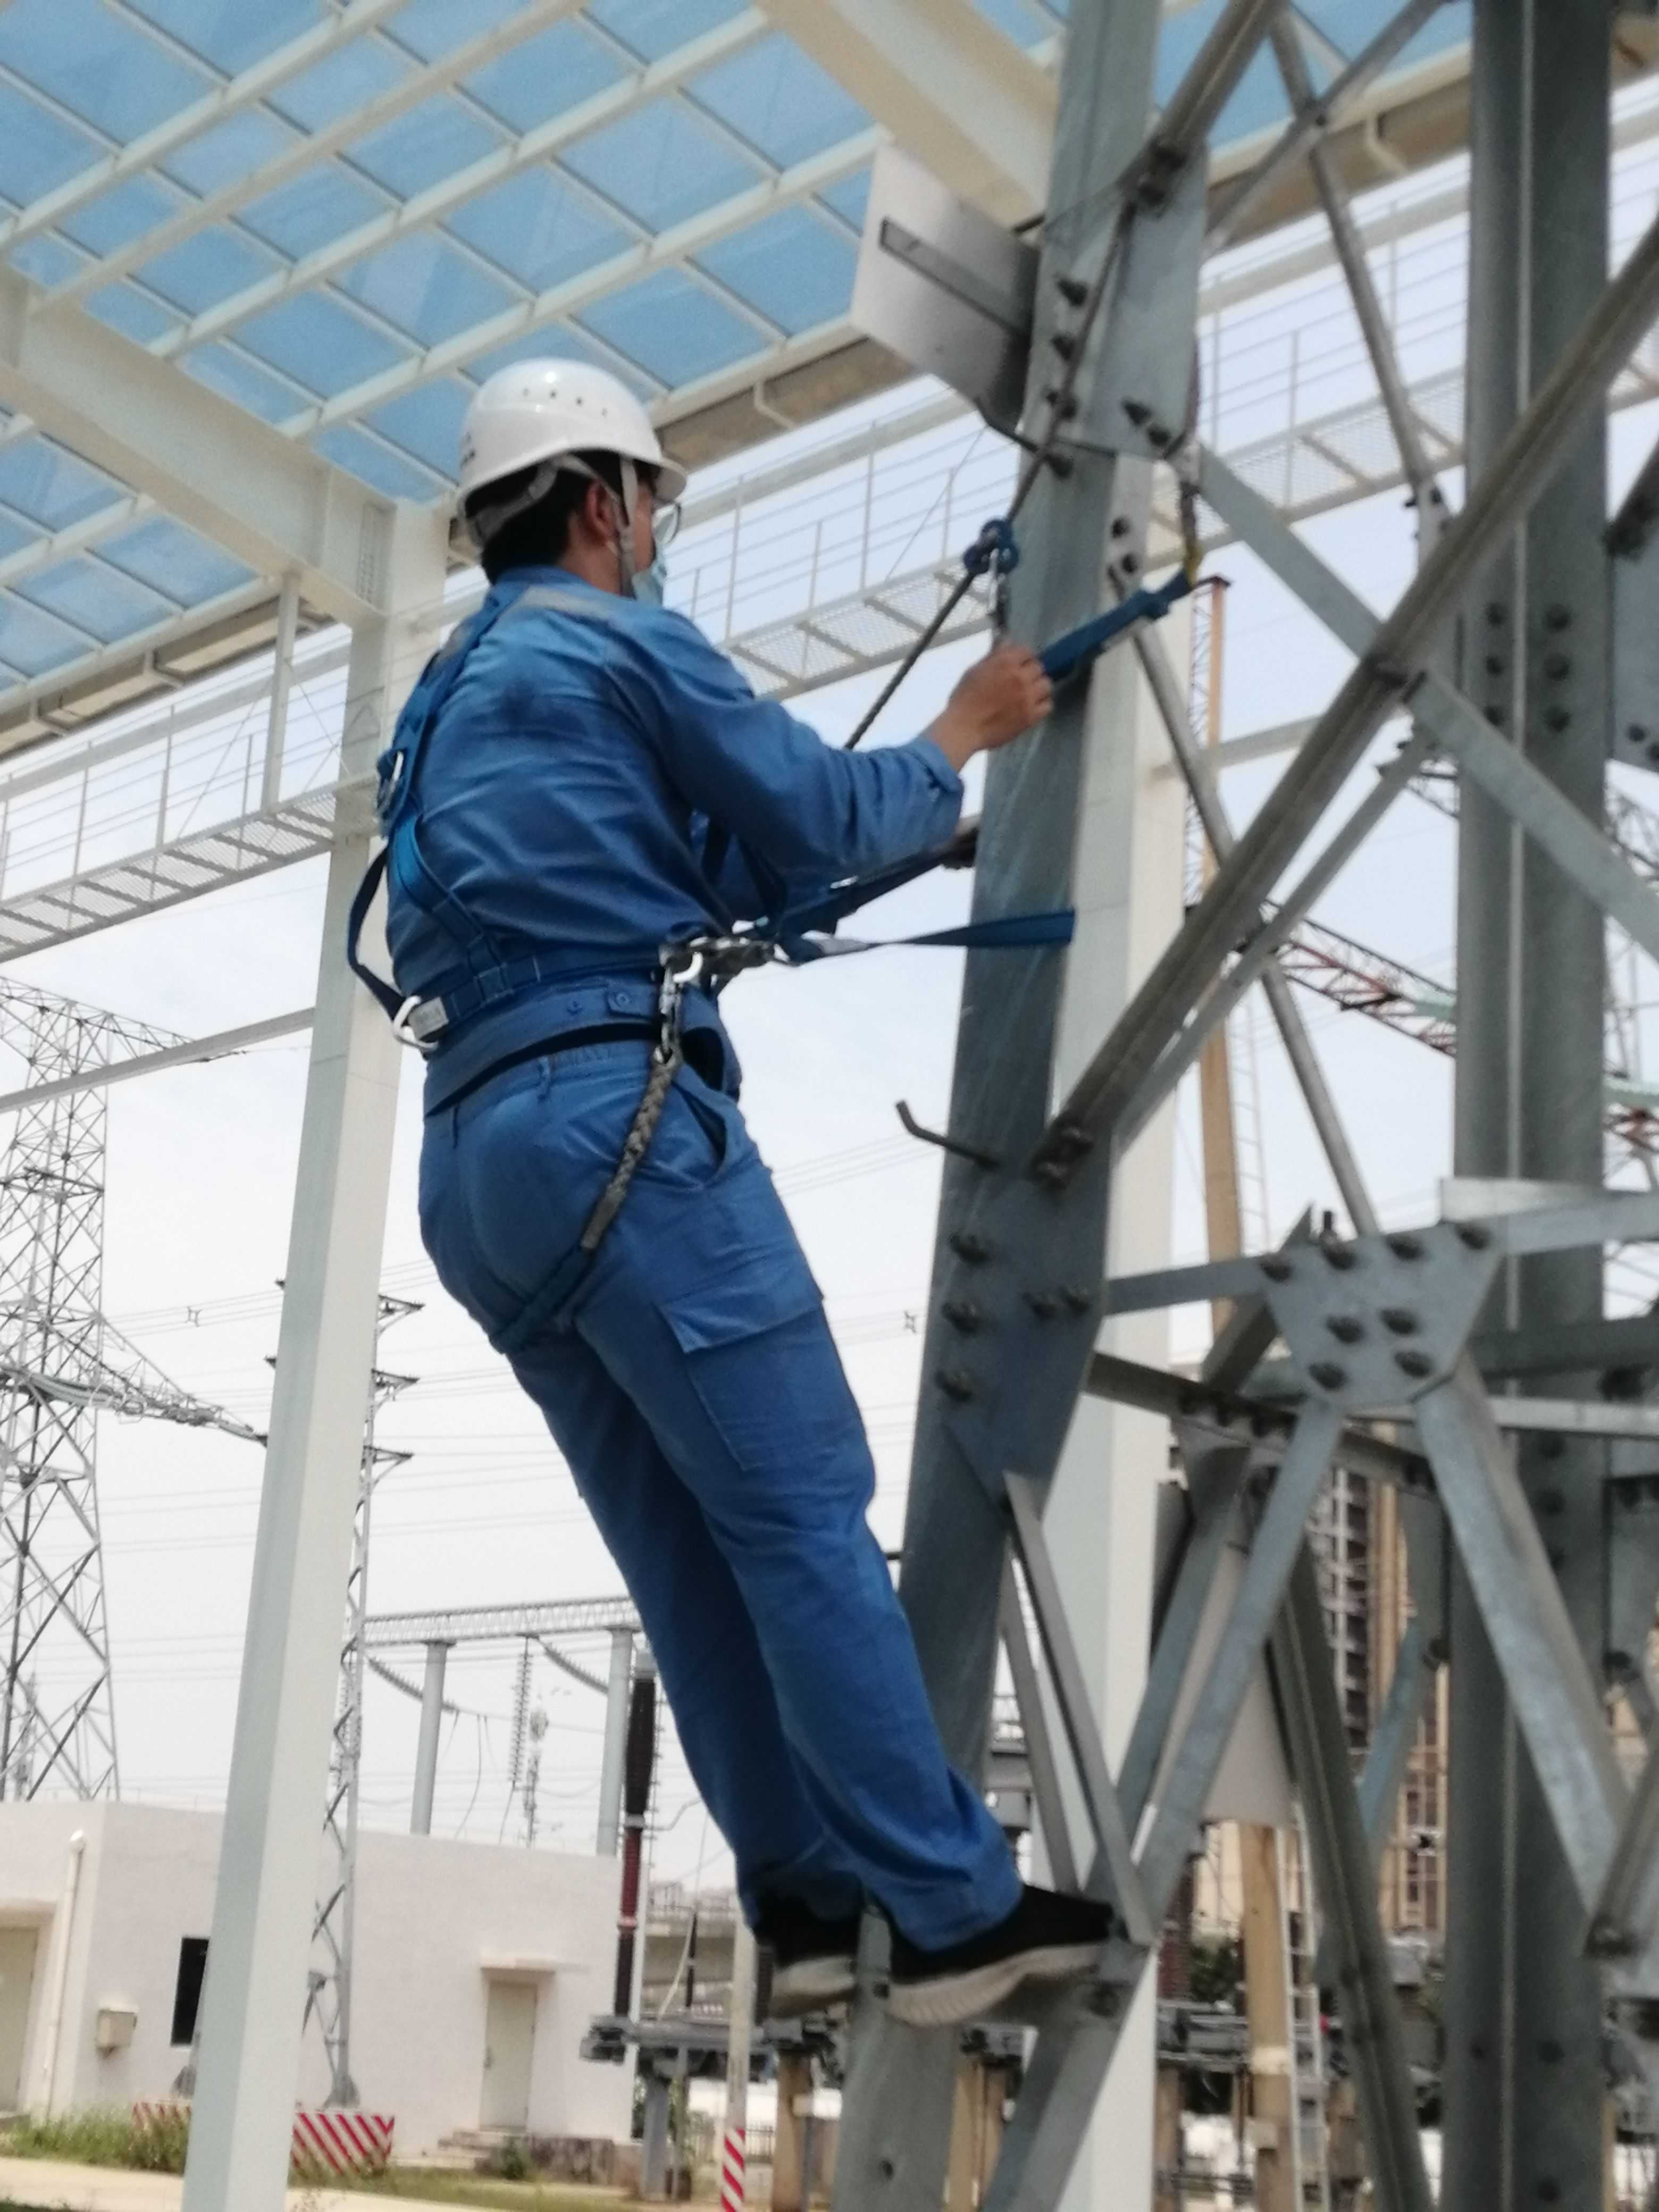downsuit: (416, 1082, 1014, 1942)
upsuit: (380, 590, 972, 1047)
